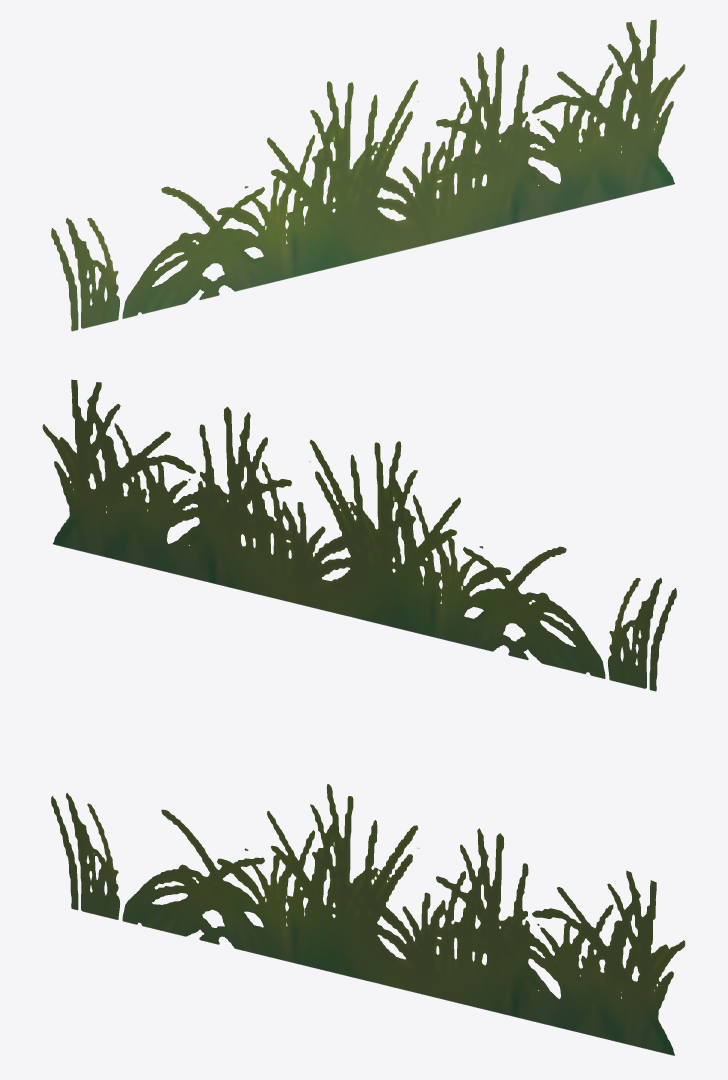
Rendered from Jiubajie_hua13_fbx.FBX.
3 renders of one model, top to bottom at view 1: azimuth 30°, elevation 25°; view 2: azimuth 150°, elevation 25°; view 3: azimuth 330°, elevation 25°, orthographic.
Parts seen in each view (by area): view 1: Jiubajie_hua13_fbx; view 2: Jiubajie_hua13_fbx; view 3: Jiubajie_hua13_fbx.
Part boxes in pixels (left/top/right/bottom): Jiubajie_hua13_fbx: left=51, top=19, right=685, bottom=331; Jiubajie_hua13_fbx: left=42, top=379, right=676, bottom=691; Jiubajie_hua13_fbx: left=51, top=784, right=685, bottom=1055.
Size of the model in its own units: 1.22 by 0.3514 by 0.000102.
